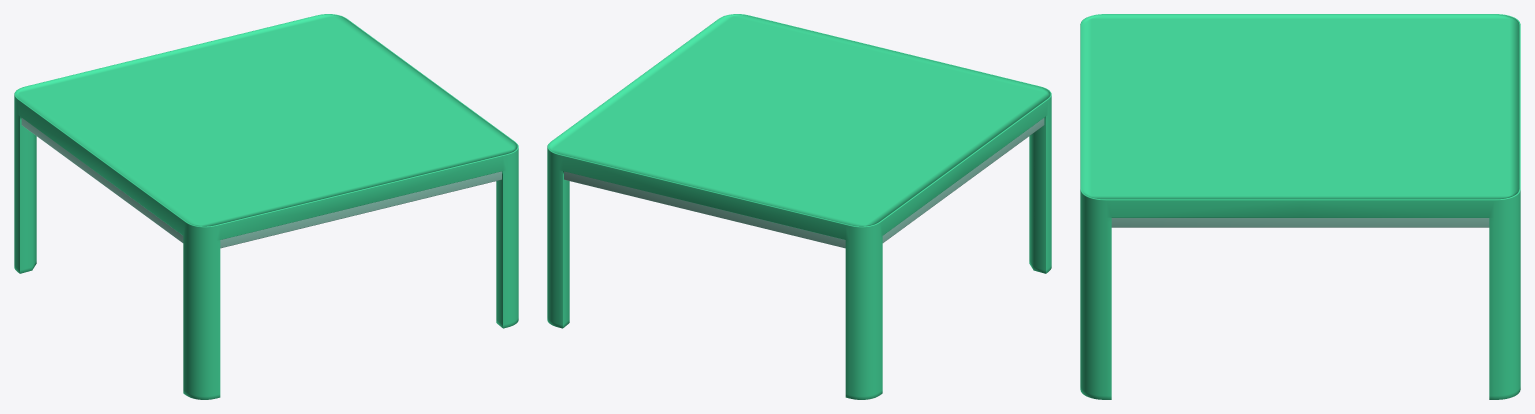
The model's file is meja2ijo.glb.
The picture shows the model from 3 angles, left to right: view 1: azimuth 30°, elevation 25°; view 2: azimuth 150°, elevation 25°; view 3: azimuth 270°, elevation 25°; orthographic projection. The views are drawn at different scales.
Visible parts, largest first — view 1: Cube, Cube.002; view 2: Cube, Cube.002; view 3: Cube, Cube.002.
Boxes of the visible parts, x1,y1,x2,y2 form: Cube: (14, 14, 518, 399); Cube.002: (21, 118, 501, 248); Cube: (547, 14, 1051, 399); Cube.002: (564, 118, 1044, 248); Cube: (1080, 14, 1520, 399); Cube.002: (1111, 218, 1489, 227).
Size of the model in its own units: 0.5351 by 0.2683 by 0.5351.
